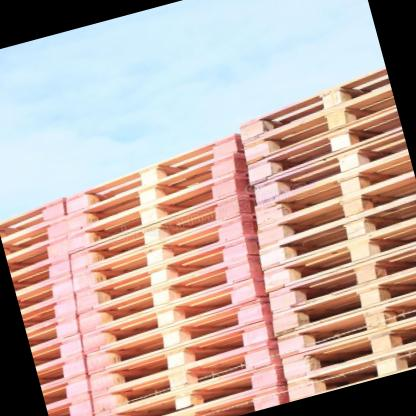BoxFace: (57, 133, 241, 216), (75, 256, 255, 336), (90, 346, 269, 416), (247, 110, 403, 181), (276, 223, 416, 288)
